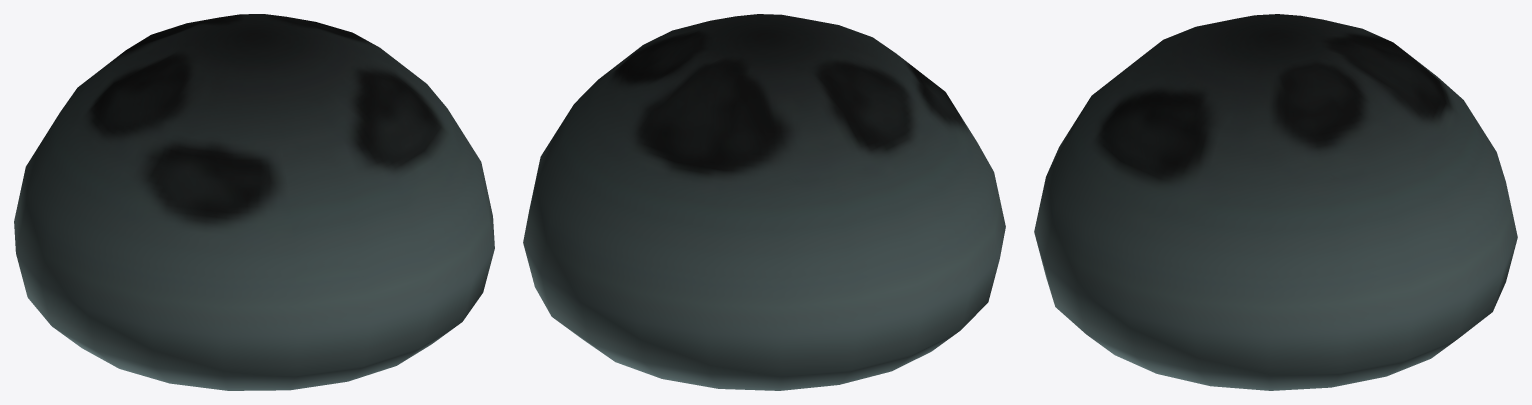
Rendered from slime.obj.
3 views of the same model, side by side, from view 1: azimuth 30°, elevation 25°; view 2: azimuth 150°, elevation 25°; view 3: azimuth 270°, elevation 25° (orthographic).
Parts seen in each view (by area): view 1: slime001_slime_0; view 2: slime001_slime_0; view 3: slime001_slime_0.
Part boxes in pixels (box(x1,y1,x2,y2)): slime001_slime_0: box(14, 14, 494, 390); slime001_slime_0: box(523, 14, 1005, 390); slime001_slime_0: box(1034, 14, 1517, 390).
Bounding box in the file's own units: 0.3633 × 0.2406 × 0.3633.
Materials: 1 (1 with a texture image).
